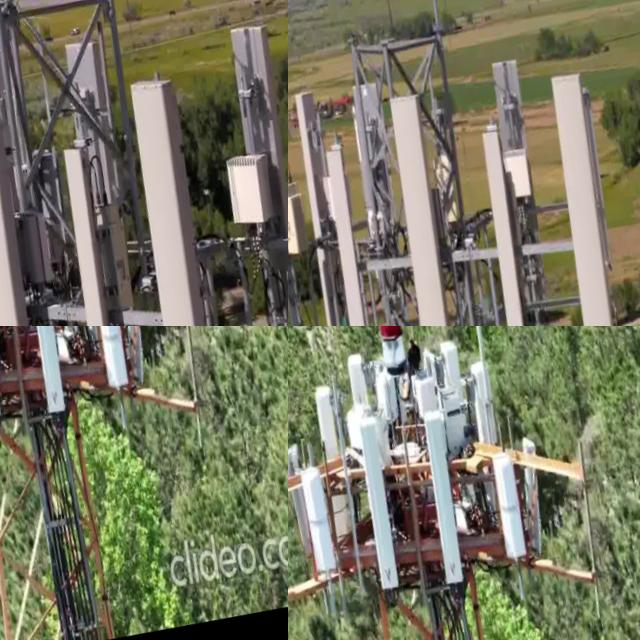GSM Antenna: (95, 57, 279, 326), (43, 30, 166, 326), (365, 71, 499, 326), (526, 54, 640, 326), (201, 9, 288, 326), (0, 64, 99, 326), (40, 130, 151, 326), (472, 40, 566, 263), (407, 394, 501, 606), (288, 91, 371, 326), (343, 416, 433, 618), (464, 122, 551, 326), (312, 137, 403, 326), (8, 326, 103, 434), (288, 117, 336, 326), (481, 433, 553, 564), (294, 459, 353, 578), (288, 436, 334, 557), (82, 326, 154, 393), (0, 326, 34, 447), (309, 377, 352, 464), (338, 341, 381, 412)
